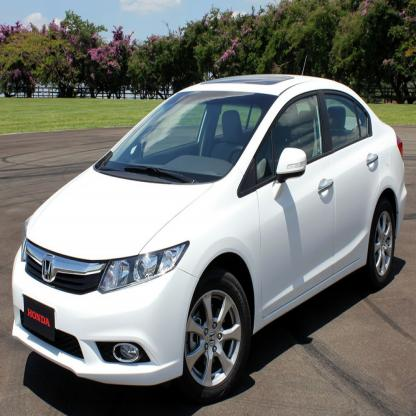Car: (13, 56, 408, 406)
